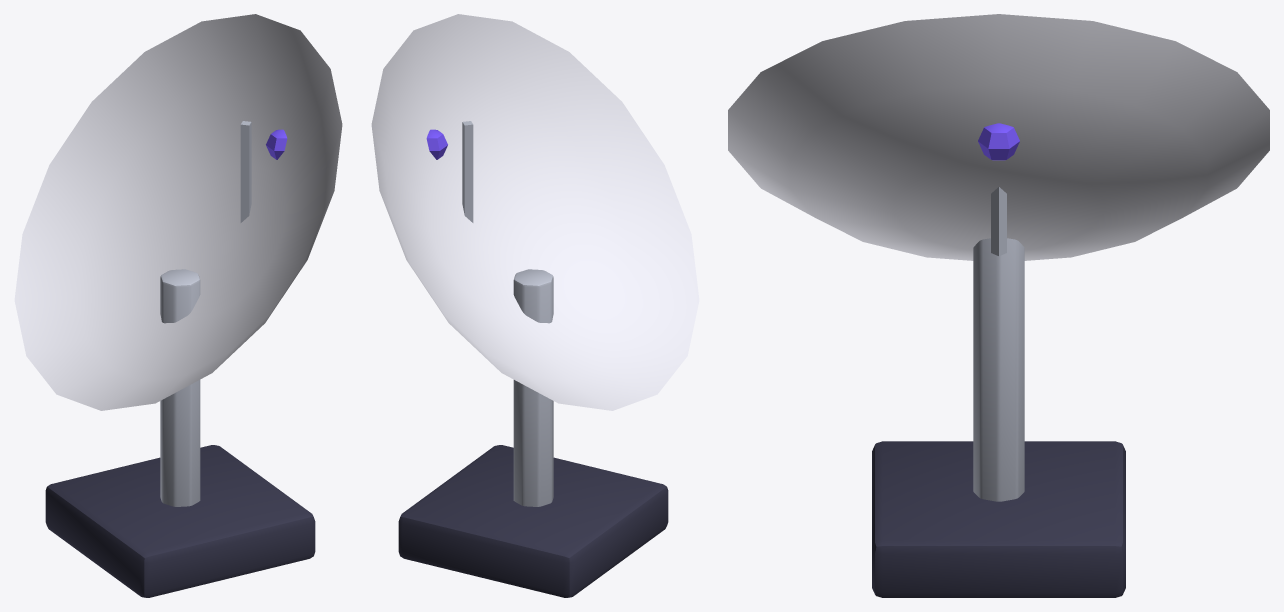
File: MidSpace.fbx
3 views of the same model, side by side, from view 1: azimuth 30°, elevation 25°; view 2: azimuth 150°, elevation 25°; view 3: azimuth 270°, elevation 25° (orthographic). The views are drawn at different scales.
Visible parts, largest first — view 1: MidSpace; view 2: MidSpace; view 3: MidSpace.
Boxes of the visible parts, x1,y1,x2,y2 form: MidSpace: [14, 14, 342, 597]; MidSpace: [371, 14, 699, 597]; MidSpace: [728, 14, 1269, 597].
Size of the model in its own units: 334 by 634 by 512.
